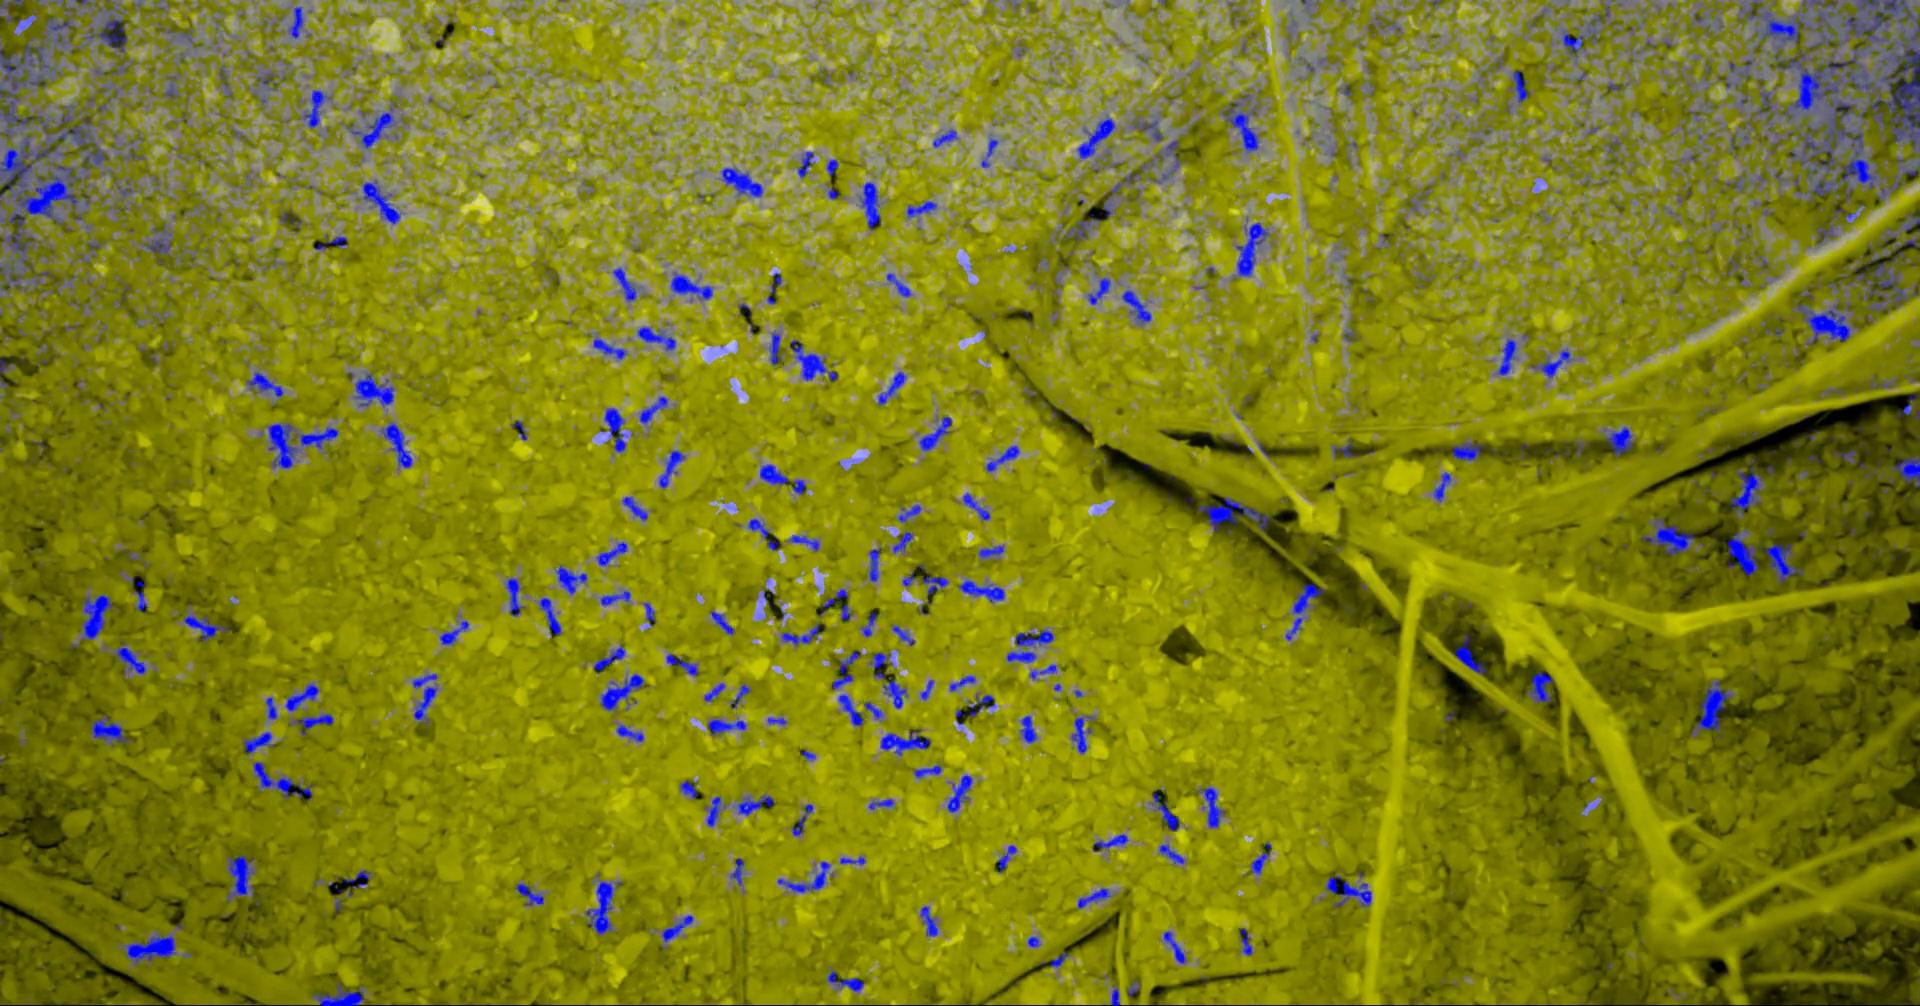ant: (1197, 495, 1269, 531), (1561, 5, 1609, 57), (251, 761, 312, 800), (345, 102, 395, 149), (1796, 304, 1853, 344), (1691, 680, 1731, 738), (1285, 583, 1324, 640), (1641, 516, 1694, 555), (1730, 457, 1763, 520), (84, 6, 127, 52), (790, 339, 837, 381), (585, 880, 621, 934), (1222, 102, 1258, 152), (1236, 222, 1269, 276), (121, 934, 175, 965), (1102, 171, 1139, 218), (1763, 542, 1803, 583), (362, 180, 400, 224), (776, 861, 829, 892), (599, 673, 643, 710), (1324, 874, 1371, 907), (1815, 207, 1857, 244), (1726, 527, 1757, 575), (378, 422, 411, 467), (1077, 117, 1114, 158), (267, 422, 298, 467), (226, 854, 254, 902), (81, 593, 110, 639), (183, 614, 229, 643), (879, 729, 930, 754), (1454, 633, 1484, 674), (354, 373, 392, 406), (411, 673, 437, 723), (44, 6, 76, 46), (90, 715, 131, 746), (599, 406, 626, 452), (311, 982, 363, 1005), (721, 166, 762, 196), (1530, 349, 1571, 379), (670, 271, 712, 298), (1150, 789, 1178, 829), (918, 415, 951, 450), (303, 89, 331, 128), (1197, 788, 1225, 827), (1063, 212, 1100, 241), (830, 652, 860, 688), (858, 180, 880, 229), (658, 450, 684, 488), (957, 580, 1004, 602), (114, 641, 145, 674), (1121, 290, 1150, 324), (780, 622, 823, 645), (246, 371, 283, 398), (555, 564, 587, 594), (946, 774, 971, 812), (636, 326, 676, 351), (297, 426, 338, 448), (1603, 426, 1633, 456), (1890, 455, 1919, 486), (877, 371, 905, 404), (284, 683, 317, 711), (984, 445, 1018, 471), (1756, 79, 1774, 130), (293, 713, 333, 735), (662, 915, 693, 942), (1070, 715, 1093, 753), (825, 968, 863, 991), (817, 588, 847, 616), (593, 645, 623, 673), (1526, 671, 1553, 702), (837, 694, 863, 725), (612, 267, 636, 301), (538, 597, 560, 635), (637, 396, 667, 424), (1161, 140, 1181, 179), (963, 492, 990, 520), (737, 794, 772, 815), (593, 337, 626, 359), (665, 653, 698, 676), (1163, 930, 1186, 963), (505, 577, 524, 616), (1496, 338, 1516, 375), (596, 541, 626, 565), (883, 677, 907, 708), (1250, 841, 1271, 874), (1077, 887, 1110, 908), (439, 620, 469, 644), (243, 730, 273, 753), (1015, 629, 1053, 647), (1131, 119, 1162, 141), (1832, 448, 1867, 467), (709, 610, 734, 635), (791, 803, 811, 835), (921, 572, 949, 594), (516, 882, 543, 904), (759, 464, 789, 485), (886, 272, 910, 297), (622, 495, 648, 520), (1087, 277, 1110, 304), (1896, 392, 1919, 419), (968, 694, 994, 716), (1092, 835, 1128, 851), (707, 719, 745, 734), (870, 652, 890, 680), (919, 904, 937, 936), (997, 843, 1016, 873), (905, 199, 936, 217), (1451, 442, 1482, 460), (143, 238, 171, 257), (1432, 471, 1450, 500), (703, 796, 721, 826), (343, 869, 370, 888), (789, 535, 819, 551), (891, 624, 914, 645), (730, 683, 750, 708), (288, 6, 303, 38), (1512, 70, 1528, 102), (766, 272, 781, 304), (1158, 843, 1183, 862), (980, 137, 997, 166), (1332, 439, 1359, 457), (1018, 715, 1036, 742), (747, 518, 770, 539), (599, 589, 630, 605), (932, 130, 957, 147), (949, 674, 975, 691), (616, 724, 643, 741), (1898, 210, 1919, 231), (279, 211, 301, 231), (891, 531, 912, 553), (1029, 664, 1057, 680), (729, 857, 744, 885), (860, 611, 876, 636), (897, 504, 919, 522), (770, 330, 781, 365), (913, 763, 941, 777), (797, 151, 813, 177), (703, 682, 724, 701), (869, 547, 880, 580), (978, 544, 1003, 558), (1239, 927, 1252, 955), (257, 72, 276, 90), (863, 701, 883, 719), (1869, 373, 1892, 387), (133, 589, 147, 612), (679, 780, 697, 798), (1006, 652, 1036, 662), (643, 602, 655, 626), (1737, 58, 1751, 80), (325, 232, 347, 246), (510, 420, 526, 439), (869, 798, 894, 809), (1049, 951, 1068, 967), (1723, 177, 1743, 191), (919, 680, 933, 699), (164, 76, 177, 97), (0, 357, 15, 372), (1902, 161, 1919, 175), (1575, 441, 1589, 457), (1863, 469, 1884, 479), (265, 697, 276, 719), (34, 271, 53, 282), (825, 159, 838, 175), (1606, 83, 1627, 93), (0, 0, 23, 9), (792, 479, 805, 494), (839, 856, 865, 864), (1110, 984, 1119, 1005), (1900, 238, 1919, 246), (767, 716, 786, 725), (1128, 981, 1139, 995), (841, 603, 851, 619), (1027, 936, 1040, 948)
